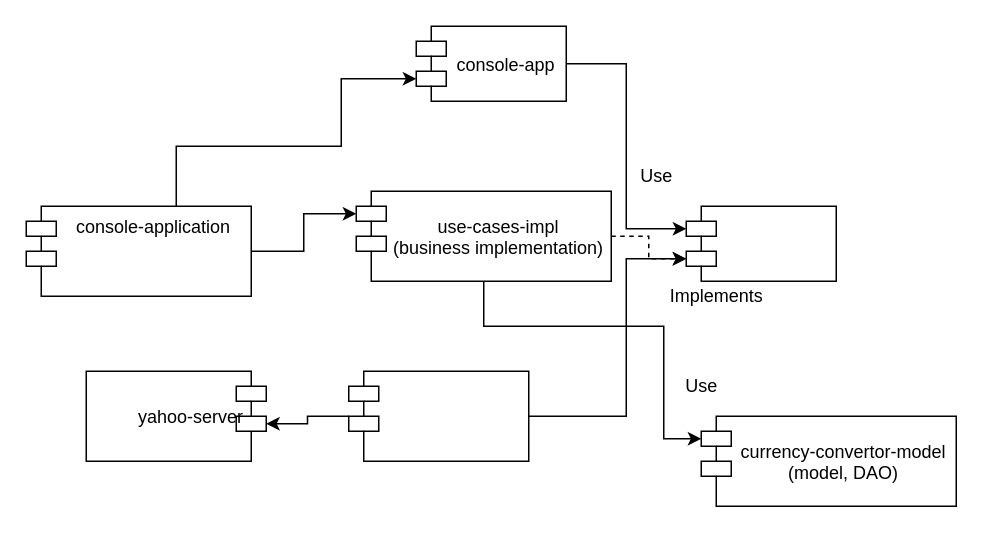
This 983x533 diagram has some shape labels left out. Here are the shapes that lost their labels. From the top down, the centre of each, then its label:
(x=760, y=243): use-cases (business def)
(x=438, y=415): yahoo-use-cases
